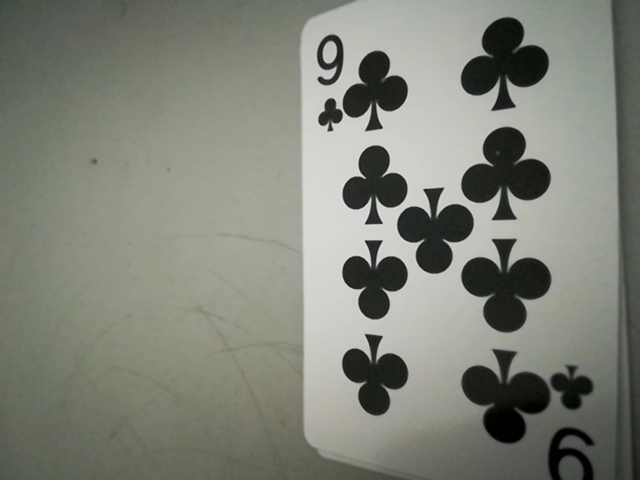mh 9: (528, 360, 606, 480), (302, 22, 369, 137)
